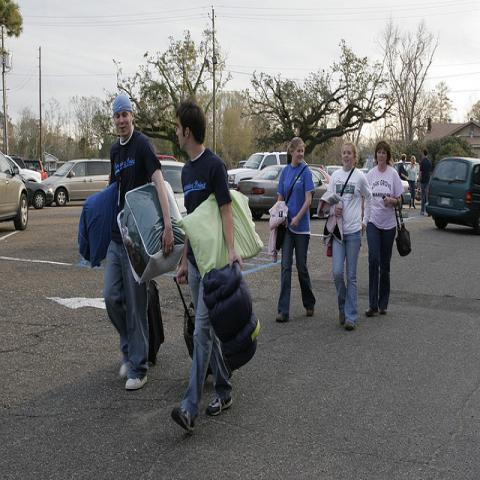car: (18, 152, 250, 178), (423, 154, 479, 236), (41, 159, 111, 206), (236, 162, 288, 222), (0, 151, 30, 230), (228, 150, 287, 186), (158, 160, 186, 217), (17, 173, 54, 209), (3, 155, 43, 183), (310, 169, 329, 220), (309, 166, 332, 184), (401, 180, 412, 209), (324, 165, 343, 177), (156, 154, 178, 162)
